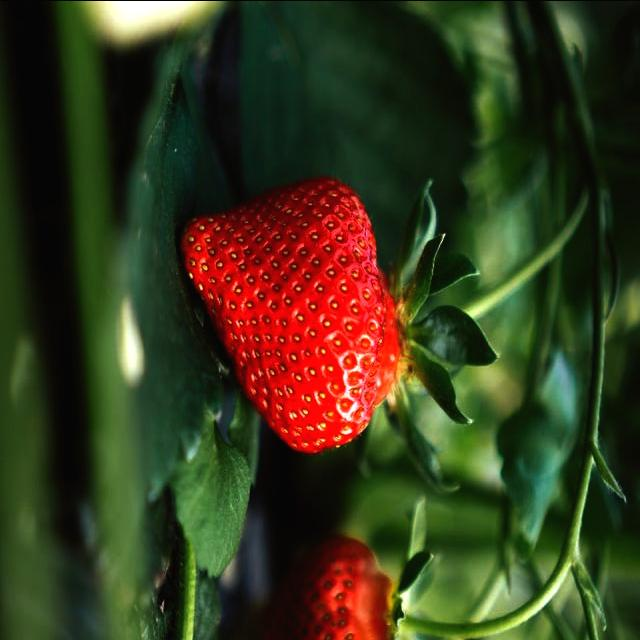ripe: (177, 159, 411, 459), (263, 525, 403, 640)
